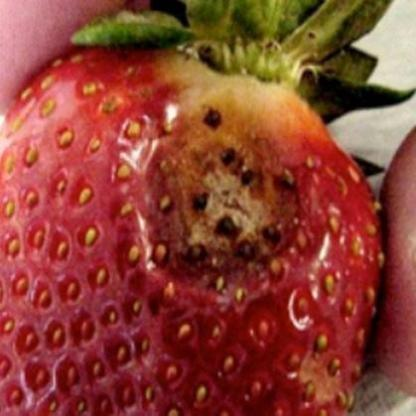Strawberry_Anthracnose_Fruit_Rot: (126, 108, 309, 291)
